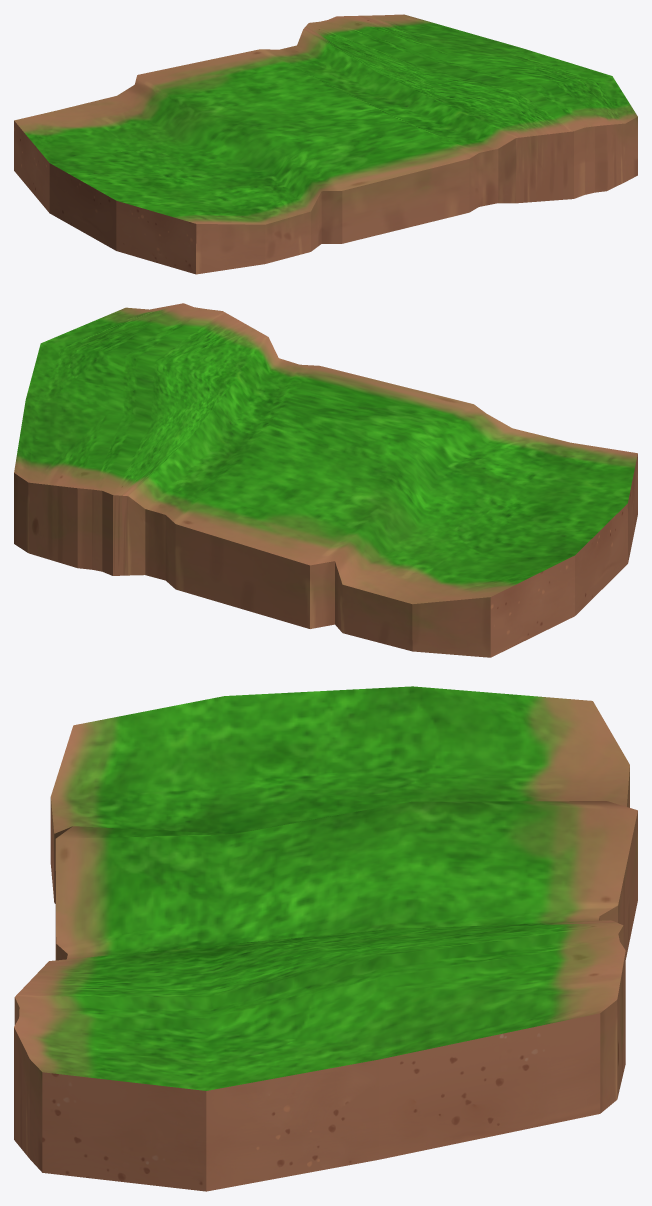
File: ground_short04.fbx
The picture shows the model from 3 angles, top to bottom: view 1: azimuth 30°, elevation 25°; view 2: azimuth 150°, elevation 25°; view 3: azimuth 270°, elevation 25°; orthographic projection. The views are drawn at different scales.
Visible parts, largest first — view 1: ground_short04; view 2: ground_short04; view 3: ground_short04.
Part boxes in pixels (left/top/right/bottom): ground_short04: left=14, top=14, right=637, bottom=274; ground_short04: left=14, top=303, right=637, bottom=657; ground_short04: left=14, top=686, right=637, bottom=1191.
Bounding box in the file's own units: 2.85 × 1.8 × 0.3675.
